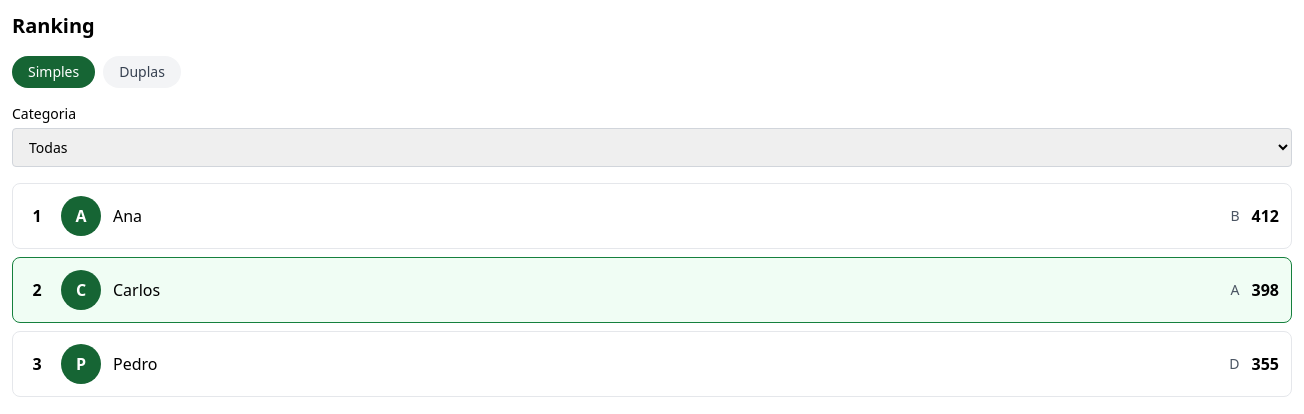
Test: aba Duplas
The image size is (1304, 414).
Expected: the heading "Ana" is shown, [113, 205, 142, 227]
Click the tab "Duplas" at (142, 72), box [103, 56, 181, 88]
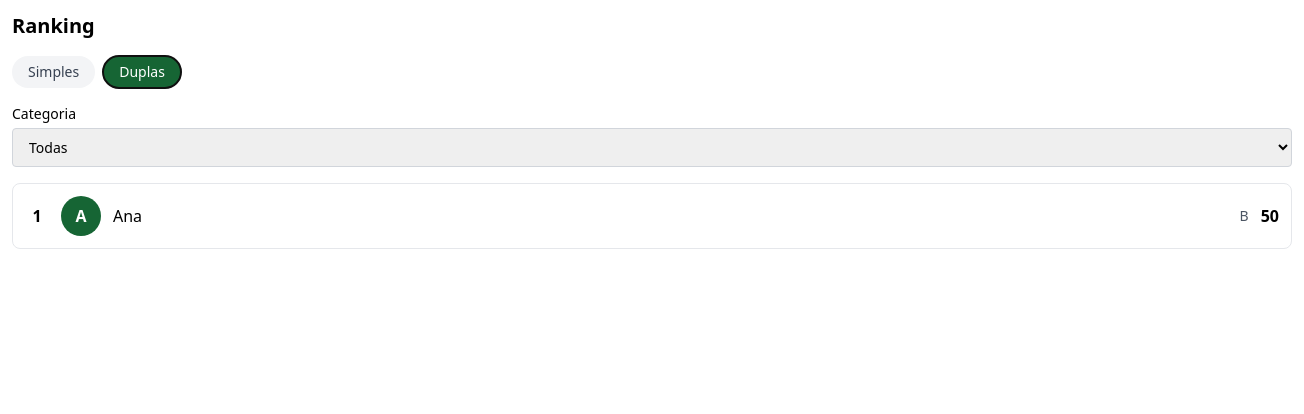
Expected: the text "50" is shown, [1261, 204, 1279, 228]
Expected: the number of links is 1, [12, 183, 1292, 249]
Expected: the link "Pedro" is gone
